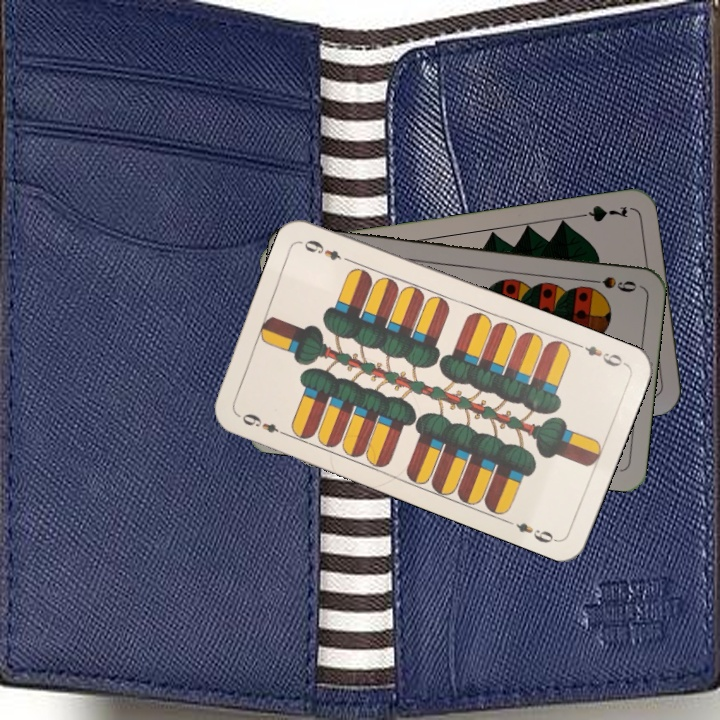E9: (572, 339, 629, 370), (233, 409, 290, 439)
G7: (571, 201, 630, 225)
S9: (581, 272, 640, 295)
